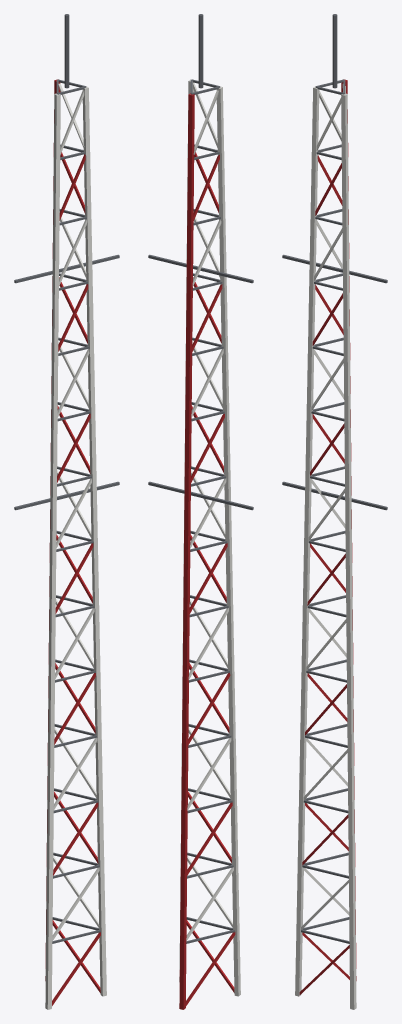
The model's file is FMMast.obj.
3 renders of one model, left to right at view 1: azimuth 30°, elevation 25°; view 2: azimuth 150°, elevation 25°; view 3: azimuth 330°, elevation 25°, orthographic.
Visible parts, largest first — view 1: FMMast; view 2: FMMast; view 3: FMMast.
Part boxes in pixels (x1=…): FMMast: x1=14, y1=14, x2=119, y2=1009; FMMast: x1=148, y1=14, x2=253, y2=1009; FMMast: x1=282, y1=14, x2=387, y2=1009.
Size of the model in its own units: 1.8 by 16.21 by 0.895.
1 material, 1 textured.
